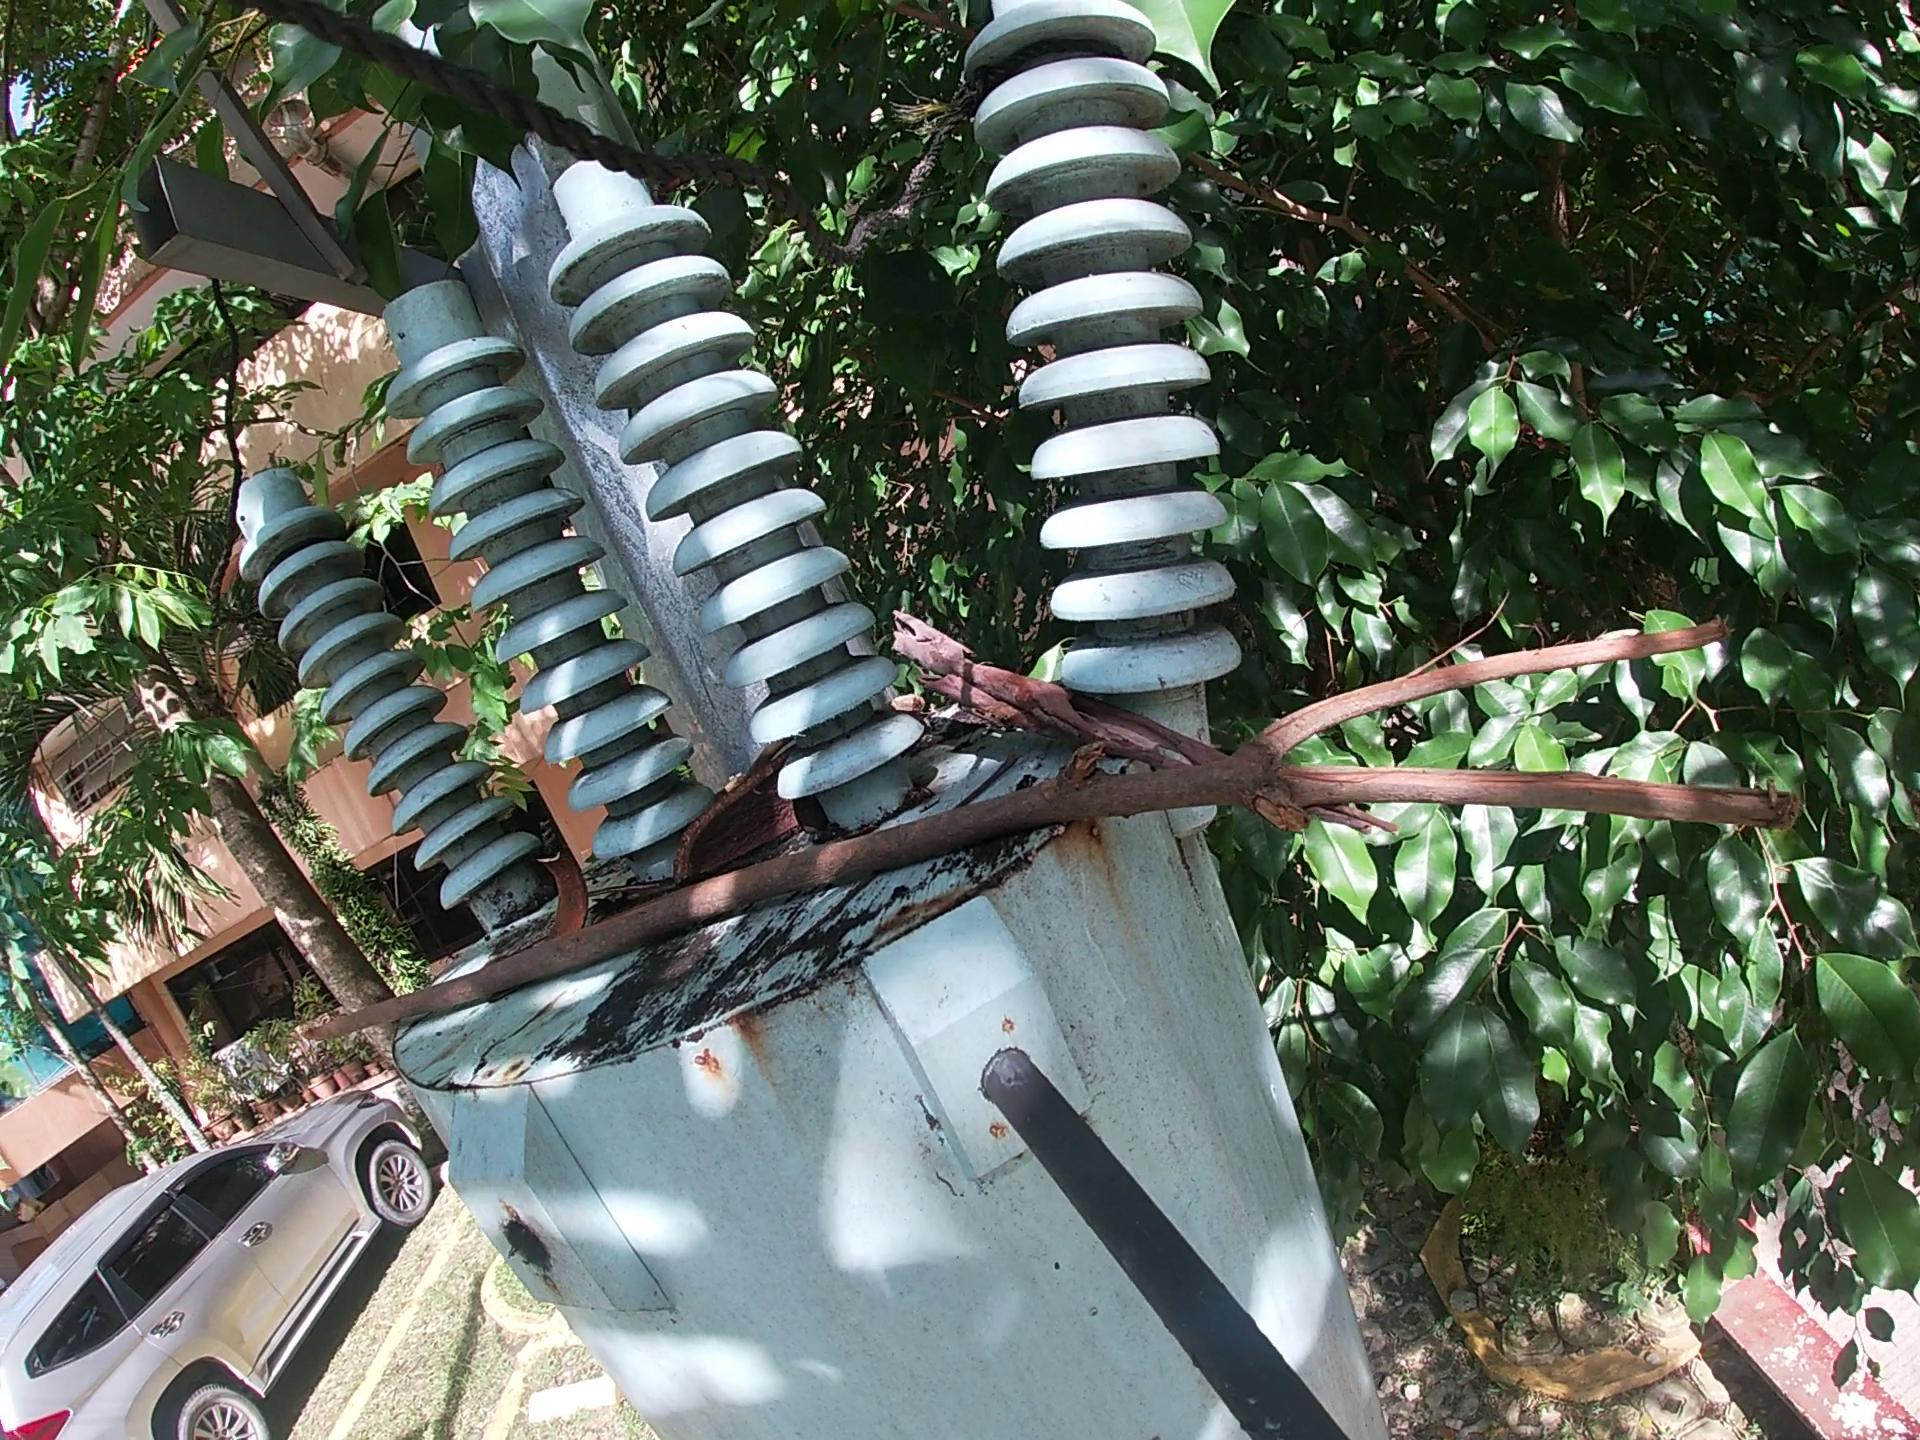mahogany fruit: (667, 731, 819, 888), (531, 846, 603, 950)
tree branch: (289, 601, 1828, 1062), (880, 605, 1407, 850)
